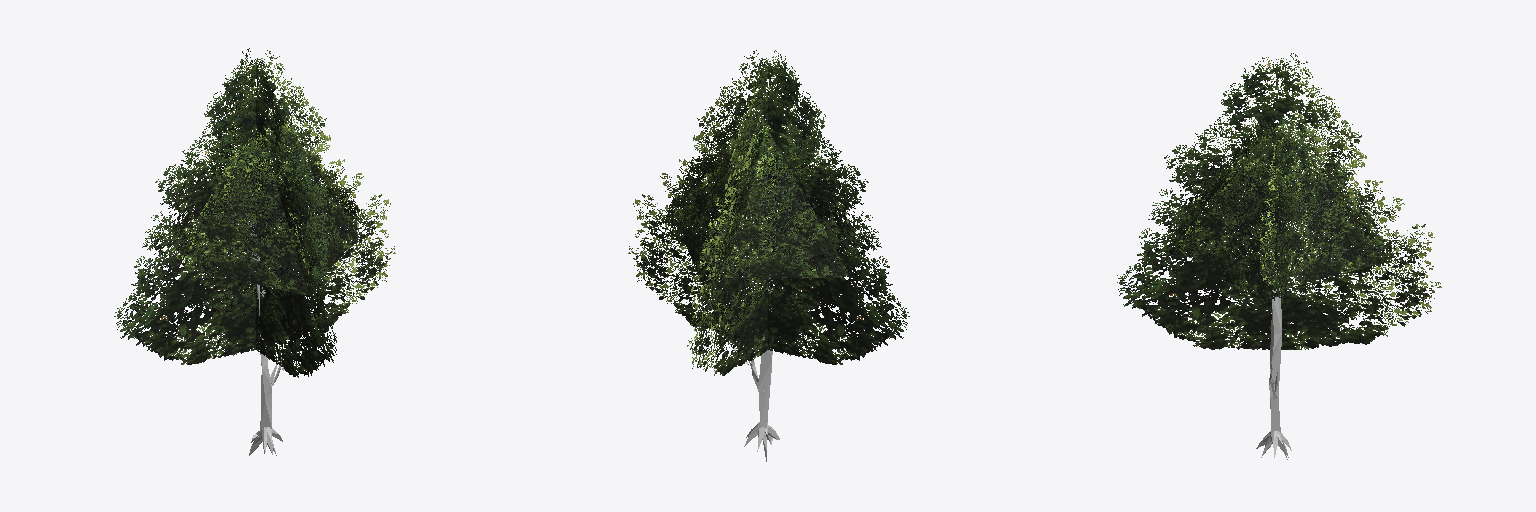
The picture shows the model from 3 angles: view 1: azimuth 30°, elevation 25°; view 2: azimuth 150°, elevation 25°; view 3: azimuth 270°, elevation 25°; orthographic projection.
Parts seen in each view (by area): view 1: polySurface17; view 2: polySurface17; view 3: polySurface17.
Part boxes in pixels (bbox=[...]): polySurface17: bbox=[114, 48, 395, 455]; polySurface17: bbox=[628, 50, 909, 461]; polySurface17: bbox=[1117, 53, 1441, 459].
Size of the model in its own units: 1.76 by 2.41 by 1.76.
4 materials, 1 textured.